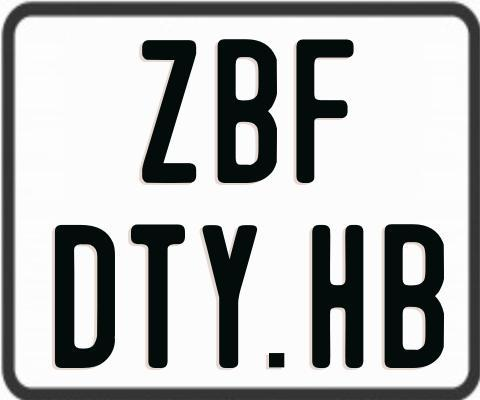B: (215, 39, 276, 185), (384, 222, 443, 372)
D: (54, 225, 116, 368)
F: (296, 36, 354, 181)
H: (312, 223, 369, 372)
T: (129, 221, 189, 366)
Y: (202, 224, 261, 367)
Z: (140, 39, 199, 185)
